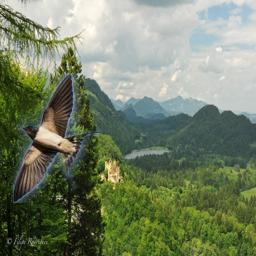Swallow: (13, 73, 100, 203)
